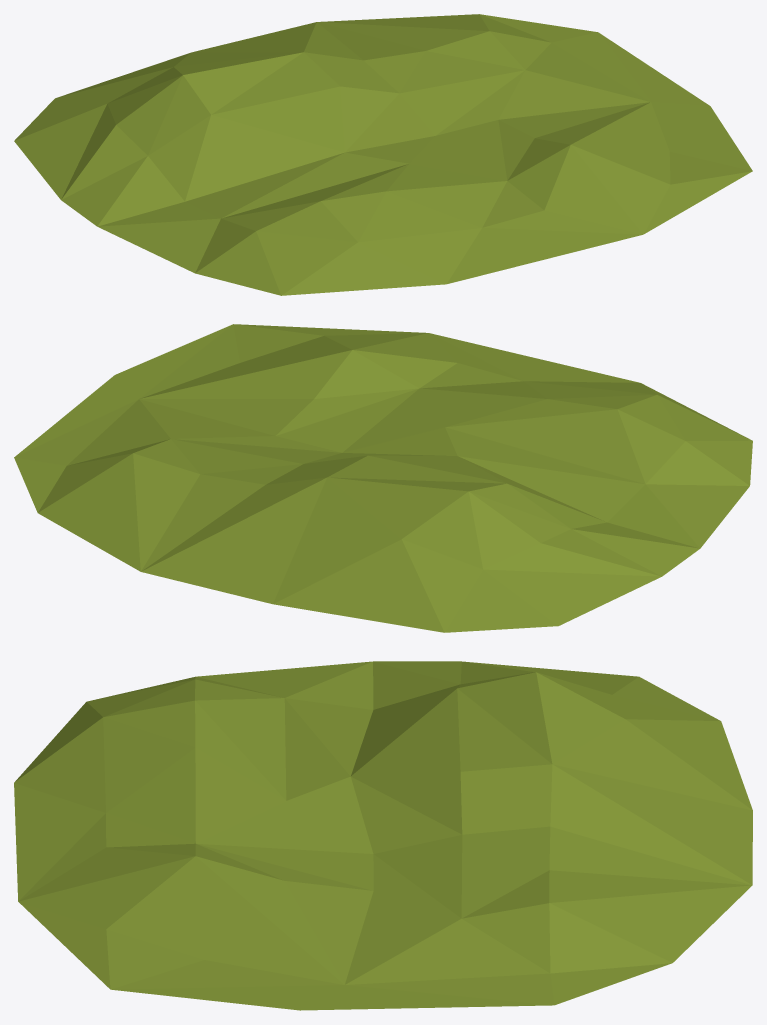
The model's file is TB_Env_LowMoundCir_B.FBX.
3 views of the same model, one above another, from view 1: azimuth 30°, elevation 25°; view 2: azimuth 150°, elevation 25°; view 3: azimuth 270°, elevation 25° (orthographic). The views are drawn at different scales.
Parts seen in each view (by area): view 1: TB_Env_LowMoundCir_B; view 2: TB_Env_LowMoundCir_B; view 3: TB_Env_LowMoundCir_B.
Boxes of the visible parts, x1=… form: TB_Env_LowMoundCir_B: x1=14, y1=14, x2=752, y2=295; TB_Env_LowMoundCir_B: x1=14, y1=324, x2=752, y2=632; TB_Env_LowMoundCir_B: x1=14, y1=661, x2=752, y2=1010.
Bounding box in the file's own units: 13.97 × 1.5 × 12.5.
